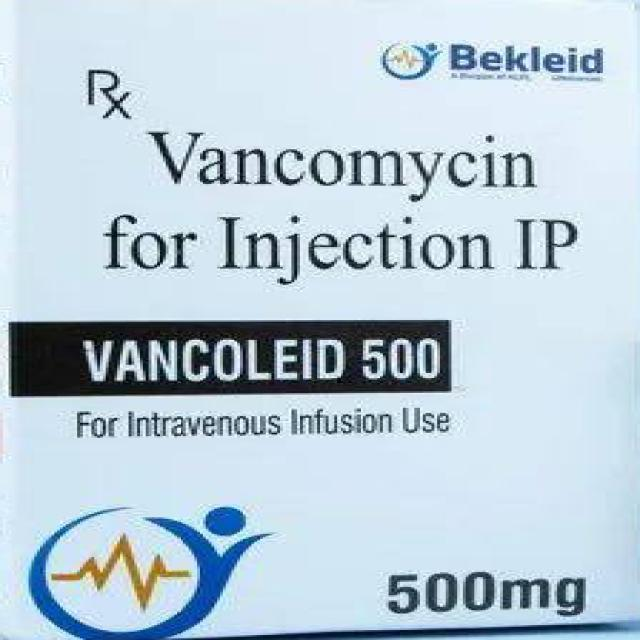drug-name: (82, 330, 446, 386)
